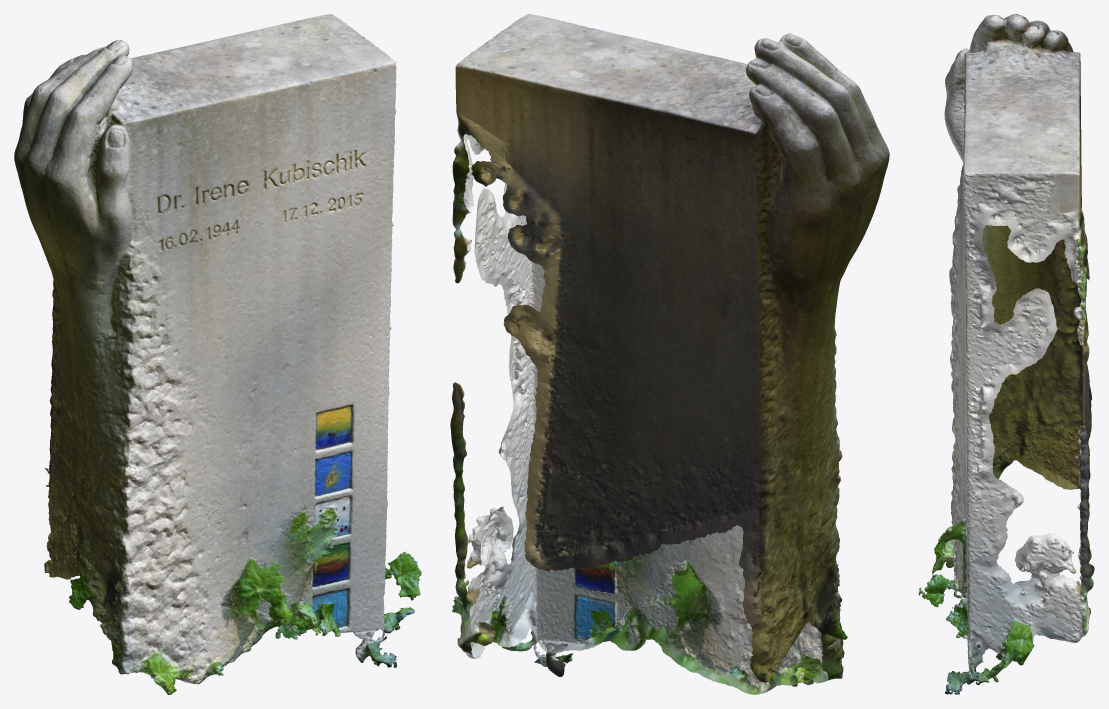
3 views of the same model, side by side, from view 1: azimuth 30°, elevation 25°; view 2: azimuth 150°, elevation 25°; view 3: azimuth 270°, elevation 25° (orthographic). The views are drawn at different scales.
Parts seen in each view (by area): view 1: 2k.50k; view 2: 2k.50k; view 3: 2k.50k.
Boxes of the visible parts, x1,y1,x2,y2 form: 2k.50k: (14, 14, 421, 694); 2k.50k: (450, 14, 889, 694); 2k.50k: (918, 14, 1094, 694).
Size of the model in its own units: 1.71 by 2.75 by 0.7621.
Materials: 1 (1 with a texture image).
